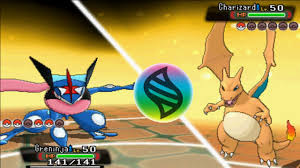charizard: (188, 12, 297, 167)
